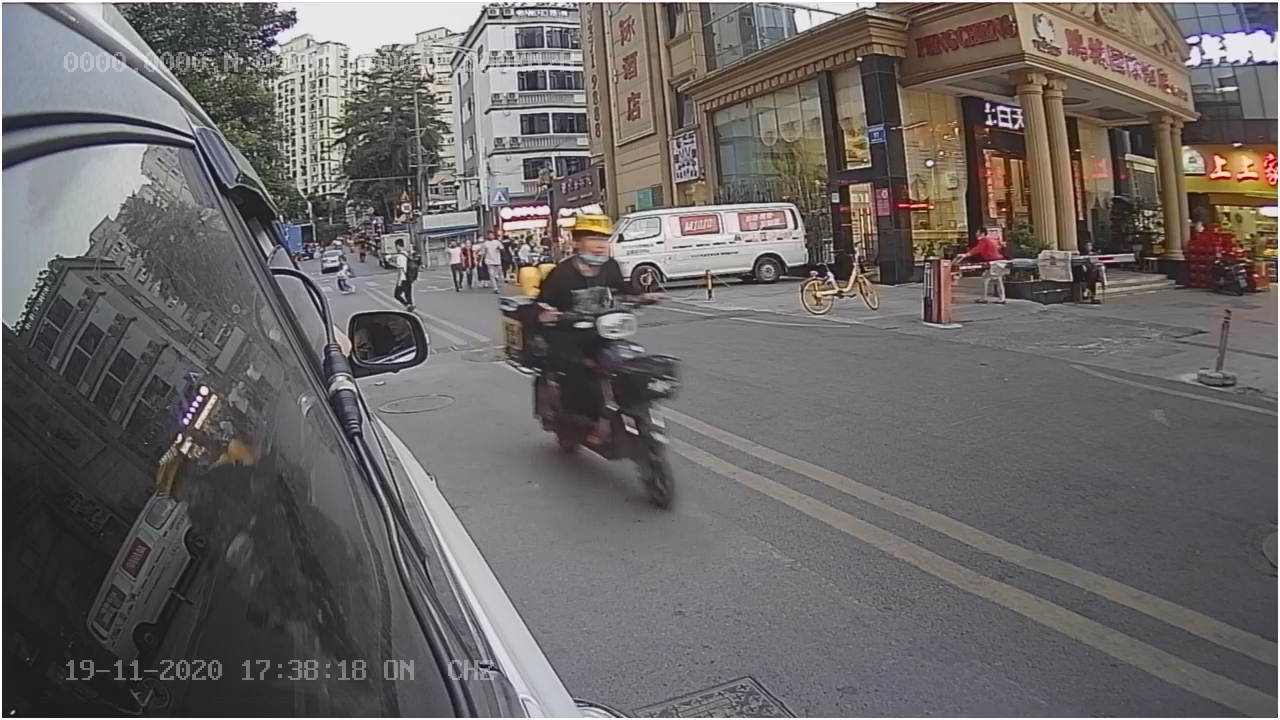person: (536, 204, 648, 309)
